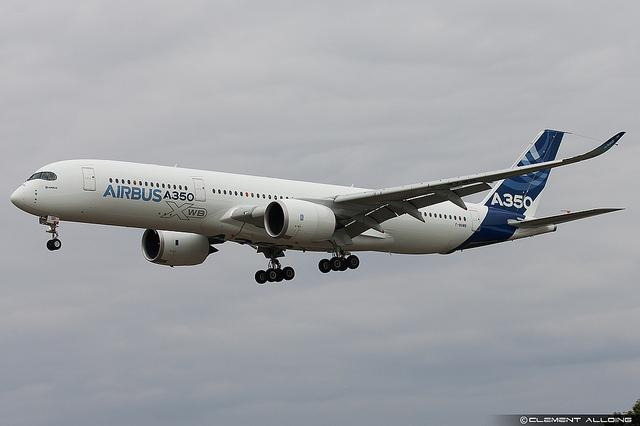airplane: (3, 122, 630, 284)
